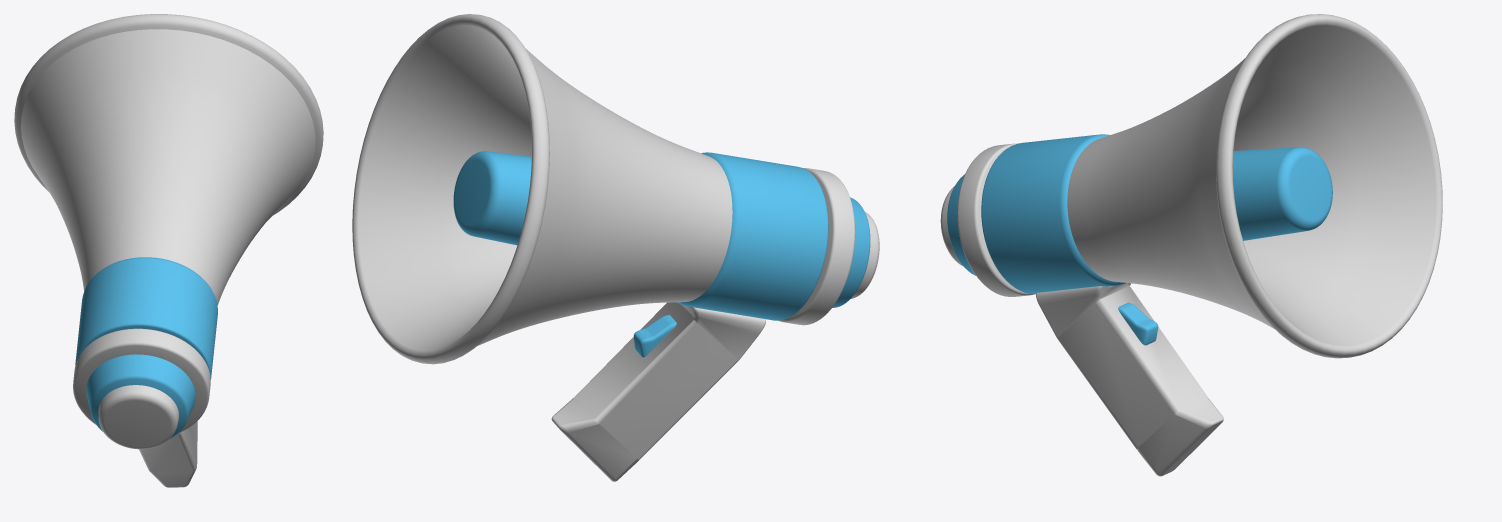
The model's file is businessEnMedia.glb.
3 renders of one model, left to right at view 1: azimuth 30°, elevation 25°; view 2: azimuth 150°, elevation 25°; view 3: azimuth 270°, elevation 25°, orthographic. The views are drawn at different scales.
Parts seen in each view (by area): view 1: megaphone/glass, megaphone/color, bottom/glass; view 2: megaphone/glass, bottom/glass, megaphone/color, megaphone-inside/color, switch/color; view 3: megaphone/glass, bottom/glass, megaphone/color, megaphone-inside/color, switch/color.
Boxes of the visible parts, x1,y1,x2,y2 form: megaphone/glass: (14,14,323,449); megaphone/color: (75,257,217,438); bottom/glass: (139,421,197,487); megaphone/glass: (352,14,879,364); bottom/glass: (551,302,765,481); megaphone/color: (677,152,870,320); megaphone-inside/color: (453,151,531,245); switch/color: (633,315,676,357); megaphone/glass: (940,14,1442,358); bottom/glass: (1036,283,1223,476); megaphone/color: (947,134,1125,294); megaphone-inside/color: (1233,147,1332,240); switch/color: (1118,302,1158,345).
Size of the model in its own units: 1.71 by 2.16 by 2.16.
